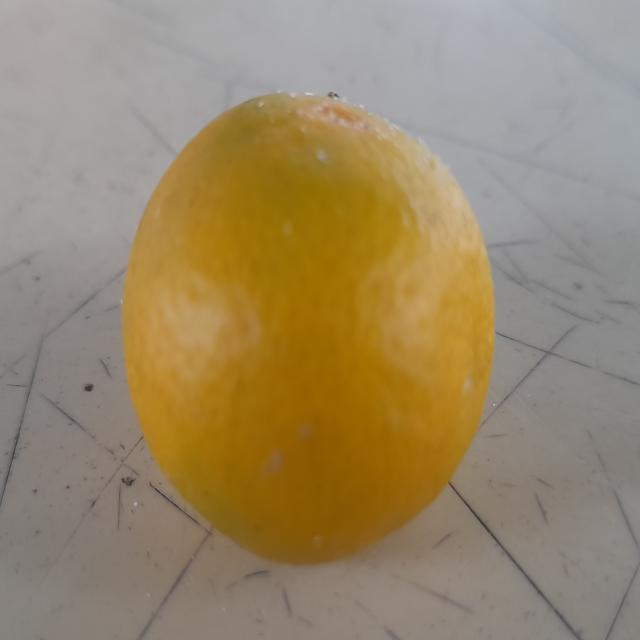greening: (117, 81, 490, 574)
